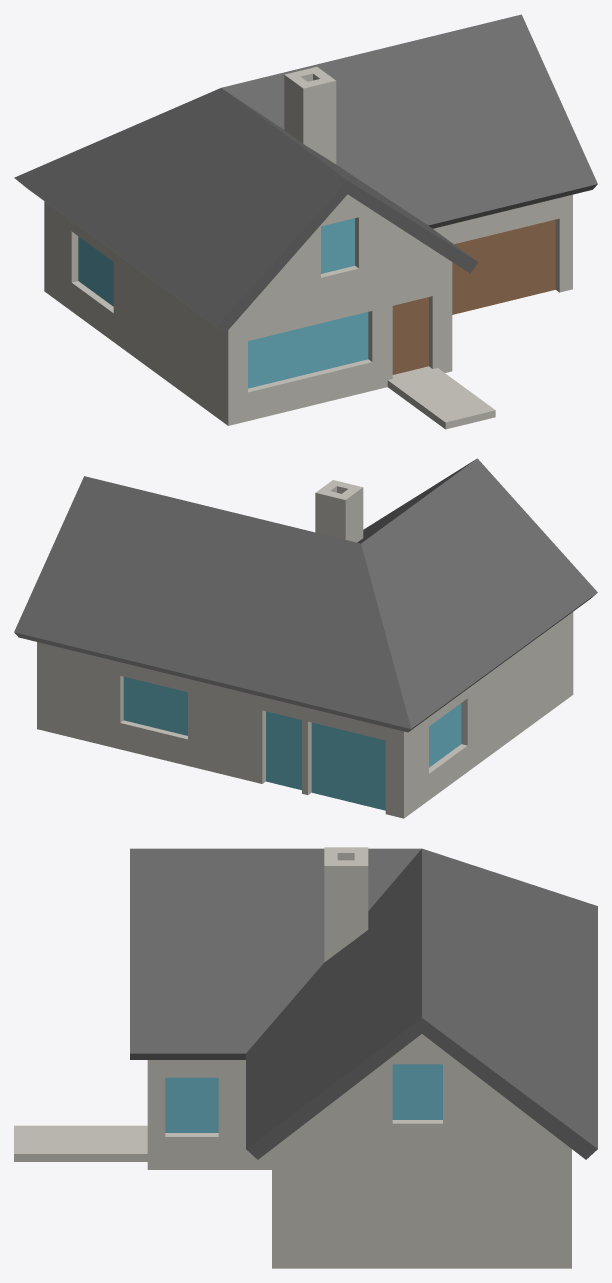
The model's file is map_house_country.gltf.
3 views of the same model, one above another, from view 1: azimuth 30°, elevation 25°; view 2: azimuth 150°, elevation 25°; view 3: azimuth 270°, elevation 25° (orthographic). The views are drawn at different scales.
Visible parts, largest first — view 1: house-country_Cube.026; view 2: house-country_Cube.026; view 3: house-country_Cube.026.
Boxes of the visible parts, <box> form: house-country_Cube.026: <box>14,14,597,429</box>; house-country_Cube.026: <box>14,458,597,818</box>; house-country_Cube.026: <box>14,847,597,1268</box>.
Bounding box in the file's own units: 0.6452 × 0.3491 × 0.6553.
1 material, 1 textured.
